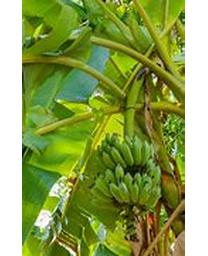banana: (94, 130, 165, 216)
